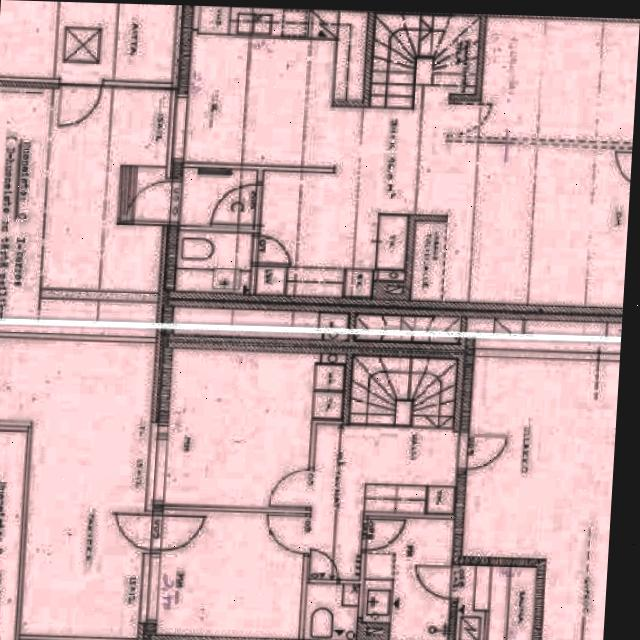room: (457, 353, 620, 640), (164, 348, 345, 511), (155, 510, 305, 639), (360, 515, 453, 640), (455, 565, 536, 640), (174, 230, 251, 294), (180, 168, 256, 228), (304, 583, 358, 640)
